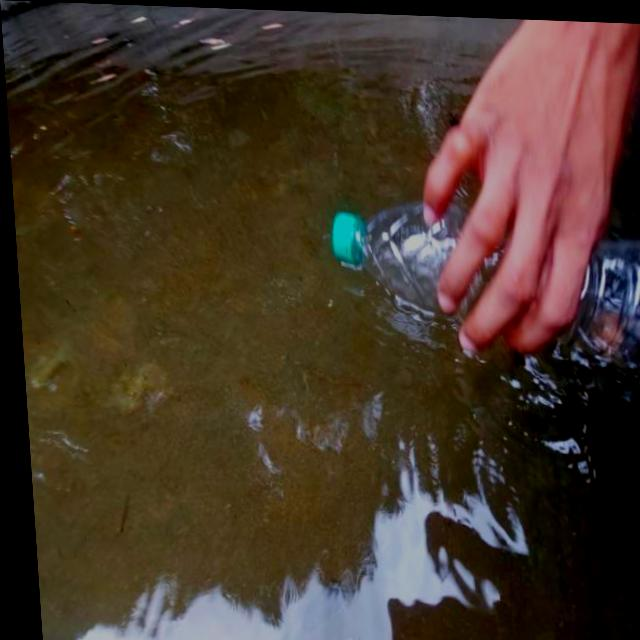waterbottle: (314, 175, 640, 409)
